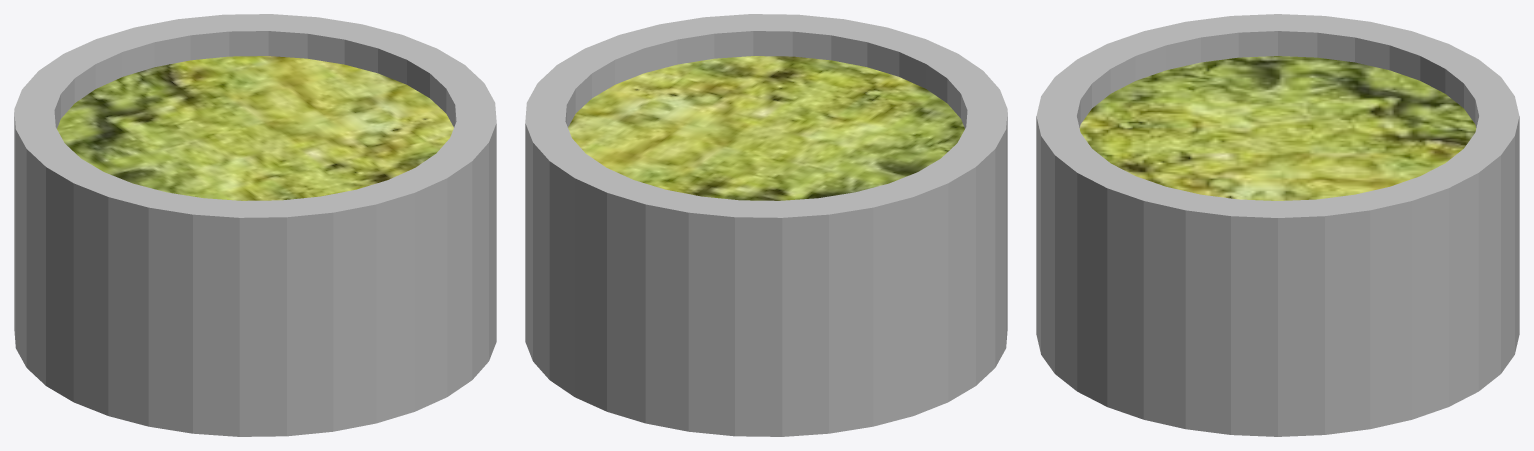
Rendered from MushyPeas.glb.
The picture shows the model from 3 angles, left to right: view 1: azimuth 30°, elevation 25°; view 2: azimuth 150°, elevation 25°; view 3: azimuth 270°, elevation 25°; orthographic projection.
Parts seen in each view (by area): view 1: Cylinder, Cylinder.001; view 2: Cylinder, Cylinder.001; view 3: Cylinder, Cylinder.001.
Part boxes in pixels (x1=…): Cylinder: x1=14, y1=14, x2=496, y2=436; Cylinder.001: x1=57, y1=56, x2=453, y2=200; Cylinder: x1=525, y1=14, x2=1007, y2=436; Cylinder.001: x1=568, y1=56, x2=964, y2=200; Cylinder: x1=1036, y1=14, x2=1519, y2=436; Cylinder.001: x1=1079, y1=56, x2=1476, y2=200.
Size of the model in its own units: 0.6 by 0.3 by 0.6.
2 materials, 1 textured.
